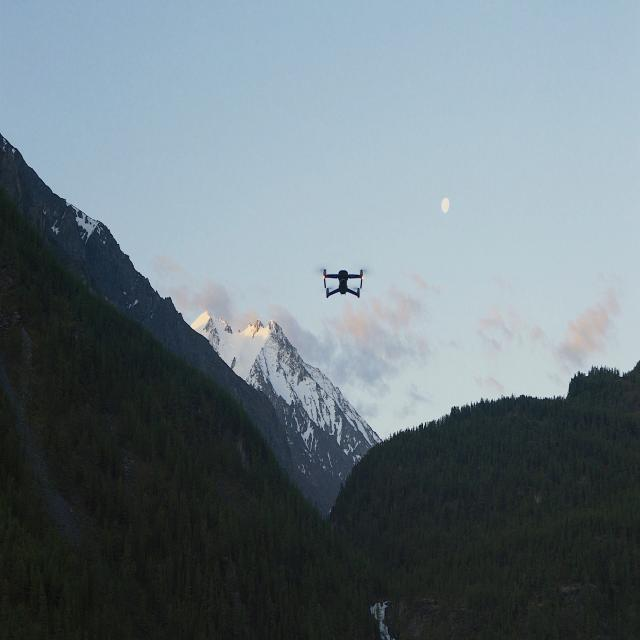Drone: (326, 274, 372, 304)
